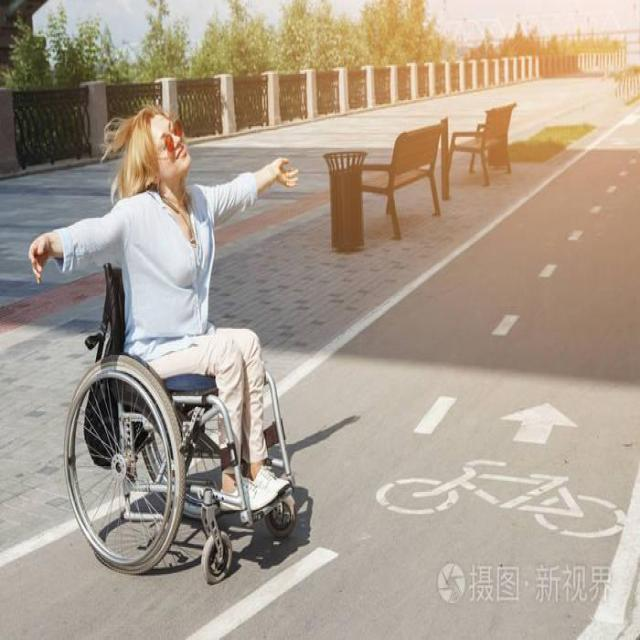wheelchairs: (54, 253, 314, 598)
